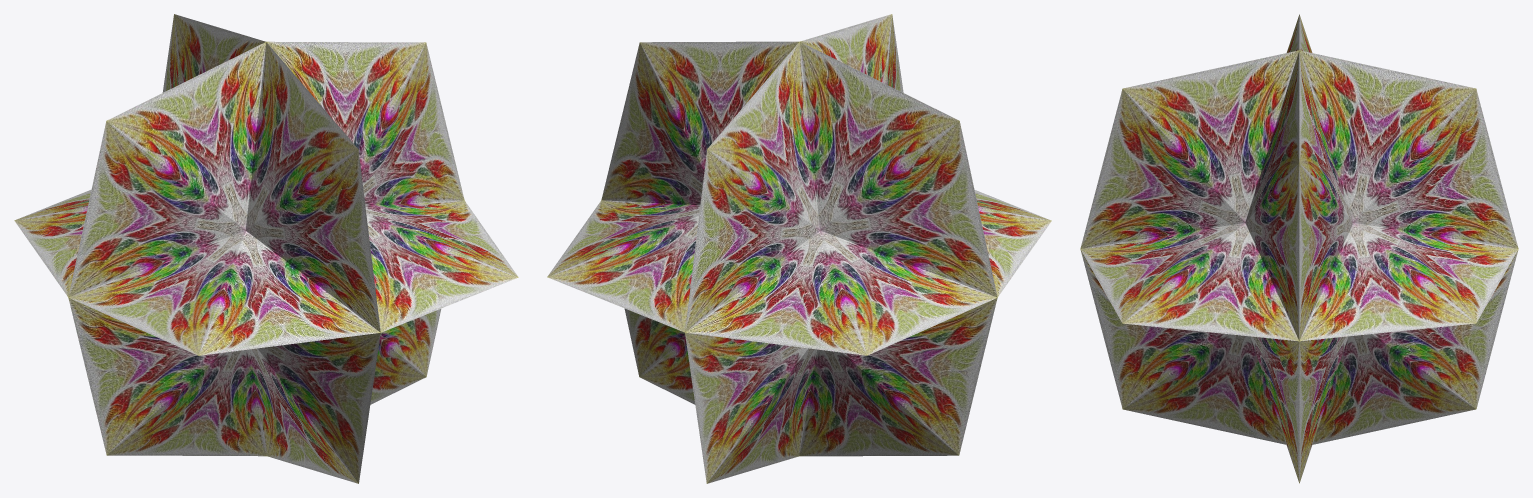
Rendered from Mobius48a_7.obj.
3 views of the same model, side by side, from view 1: azimuth 30°, elevation 25°; view 2: azimuth 150°, elevation 25°; view 3: azimuth 270°, elevation 25° (orthographic). The views are drawn at different scales.
Bounding box in the file's own units: 2.41 × 2.41 × 2.41.
1 material, 1 textured.
